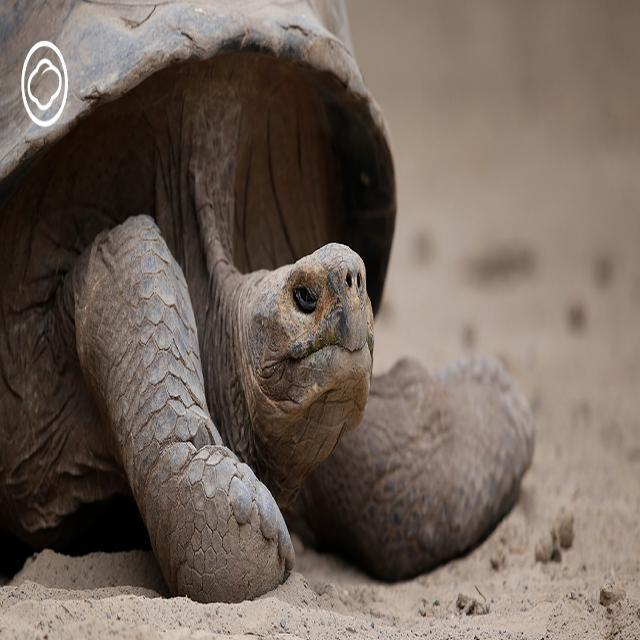Turtle: (13, 0, 565, 616)
